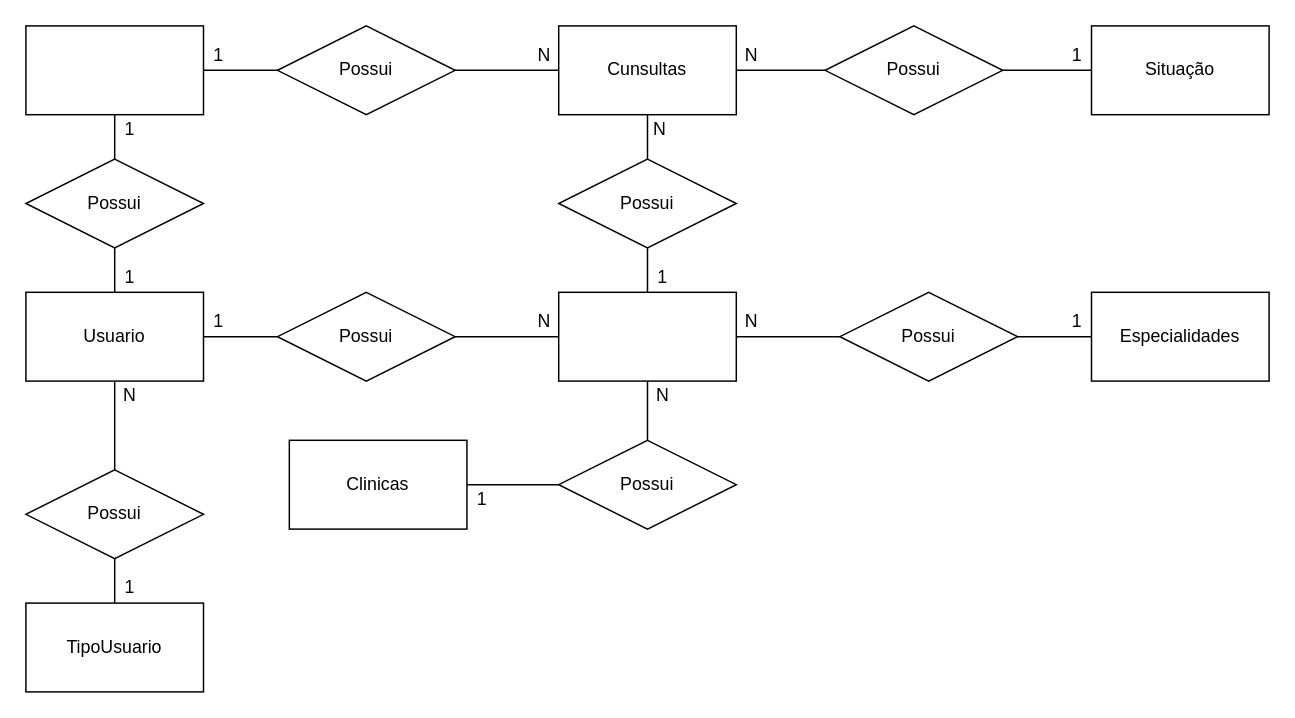
Some shapes in this 1295 by 718 pixel diagram are drawn without their labels. Each missing label, with the box of its shape:
Médicos: (557, 291, 736, 381)
Prontuário: (24, 24, 204, 115)
